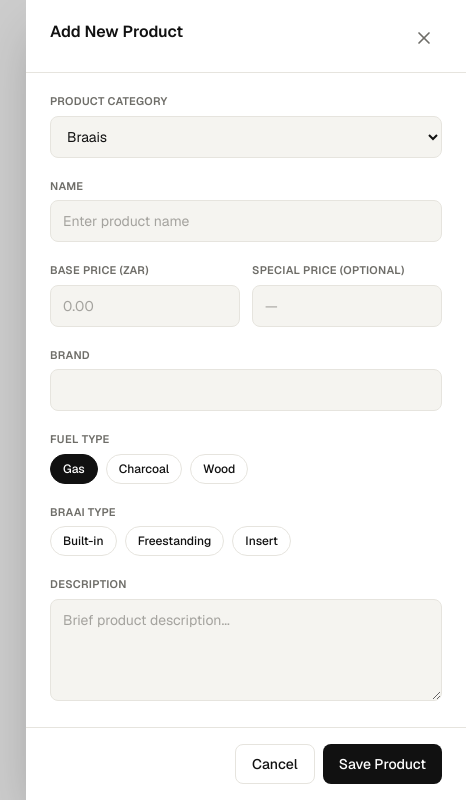
Test: create mode › validation › rejects a negative price
Type "Test" into the field labelled "Name" at point(246, 221), box [50,200,442,242]
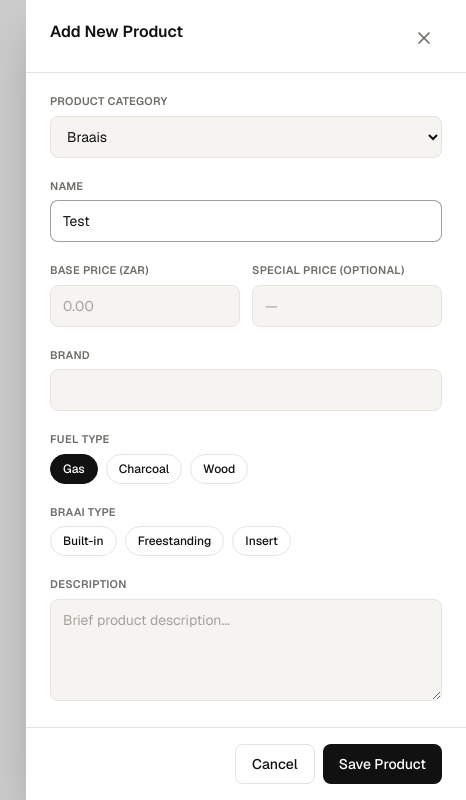
Type "-5" into the number field labelled "Base Price (ZAR)" at point(145, 306), box [50,284,240,326]
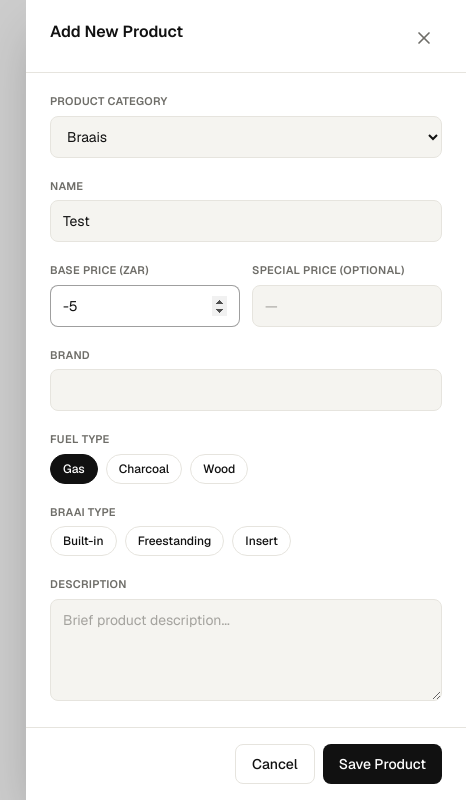
Click the button "Save Product" at point(382, 764), box [323,744,442,784]
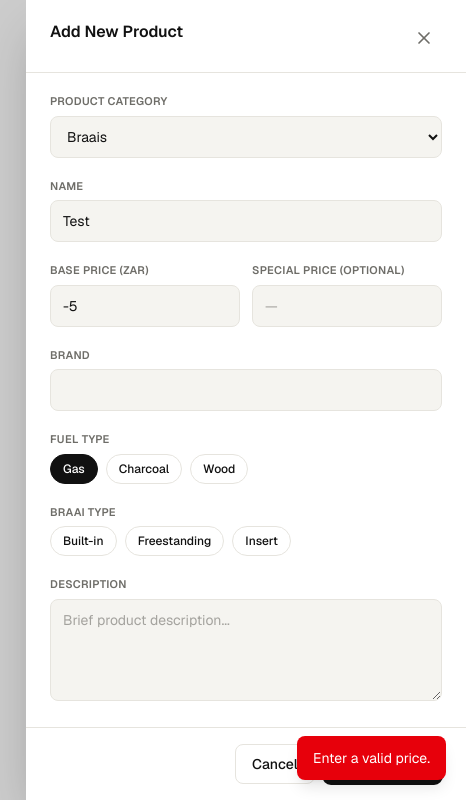
Expected: the text "Enter a valid price." is shown, [297,736,446,780]
